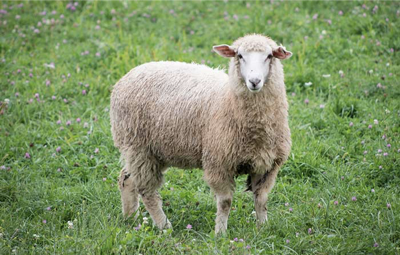koyun: (109, 32, 292, 242)
